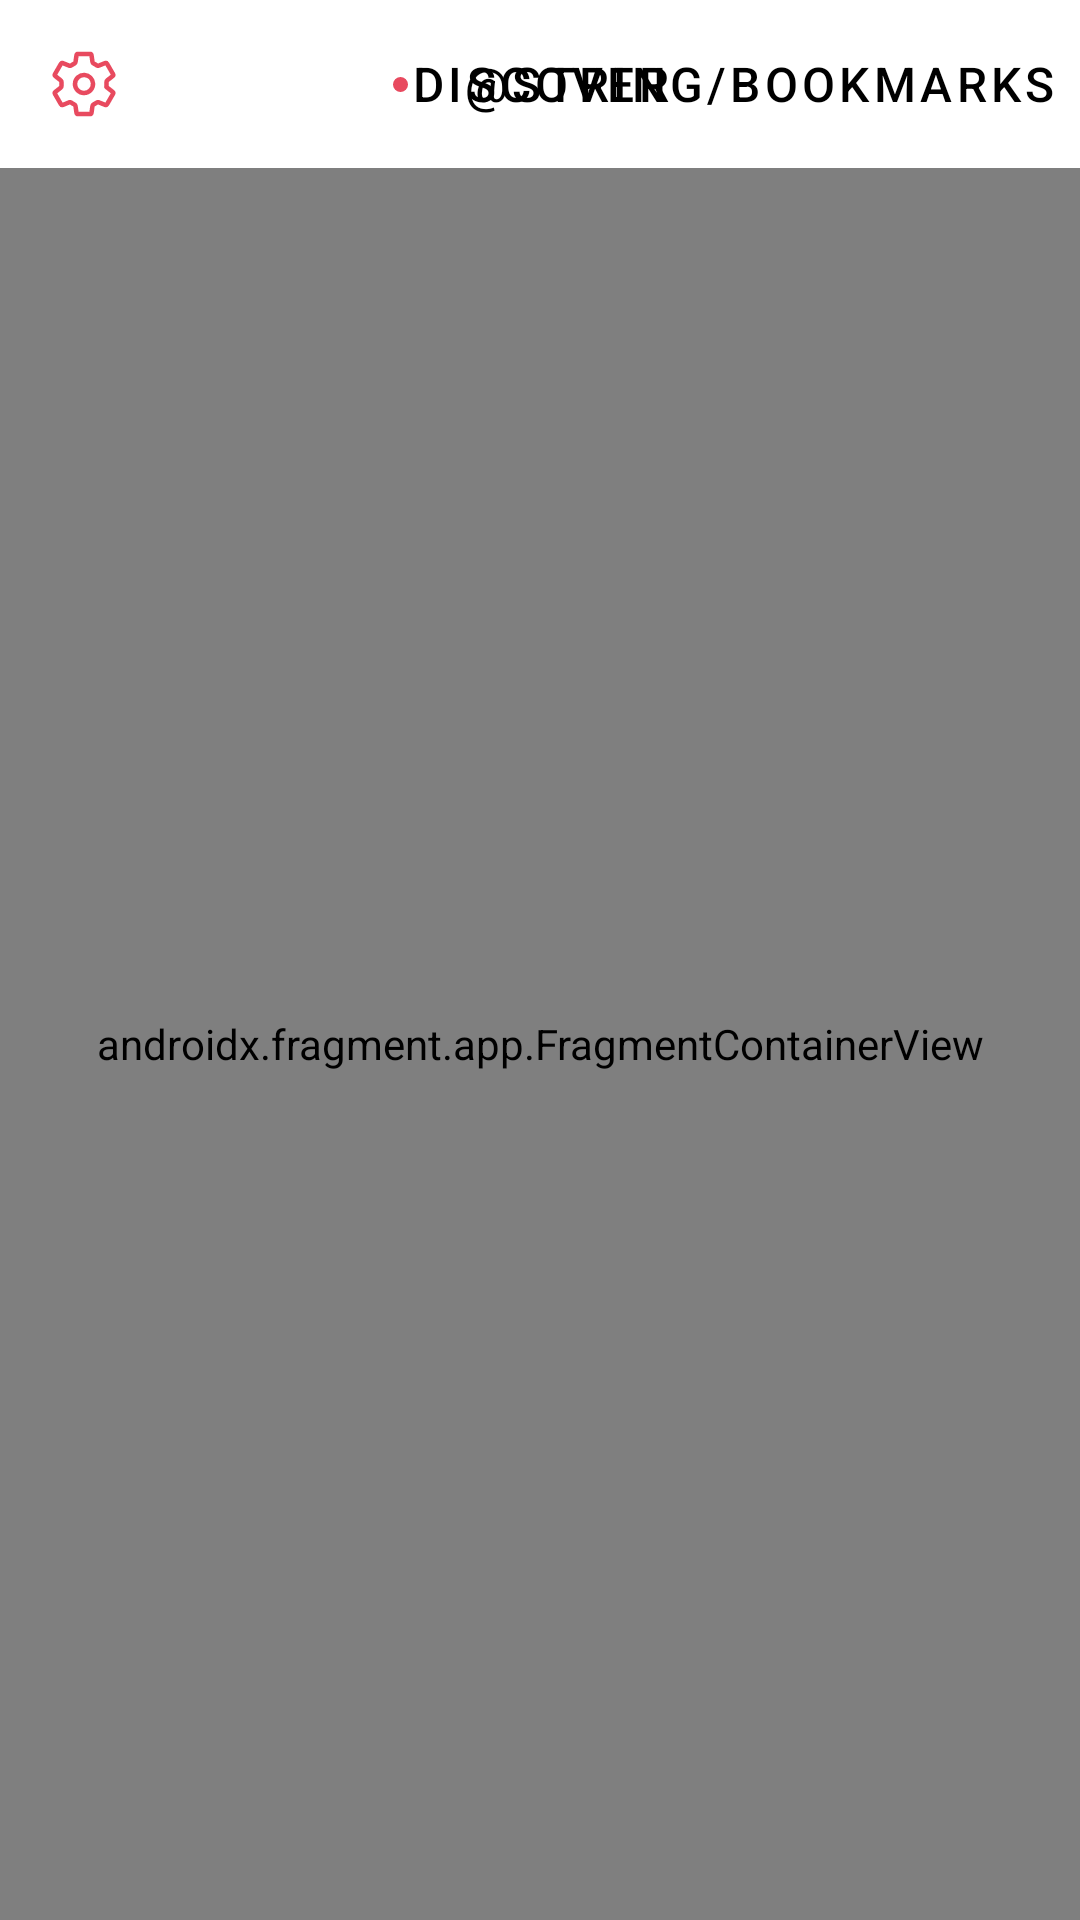

Point at icon controls on the screen. Image size 1080 × 1920, points as [x,y].
Preferences Button: [84,84]
